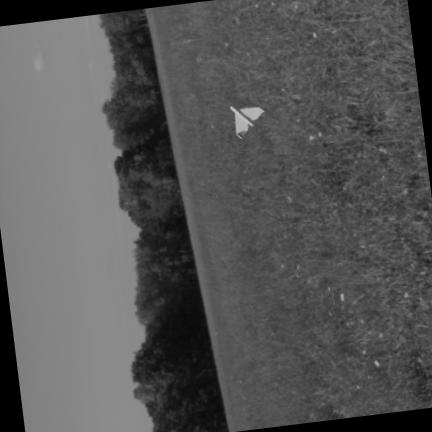Shahed: (230, 105, 263, 137)
